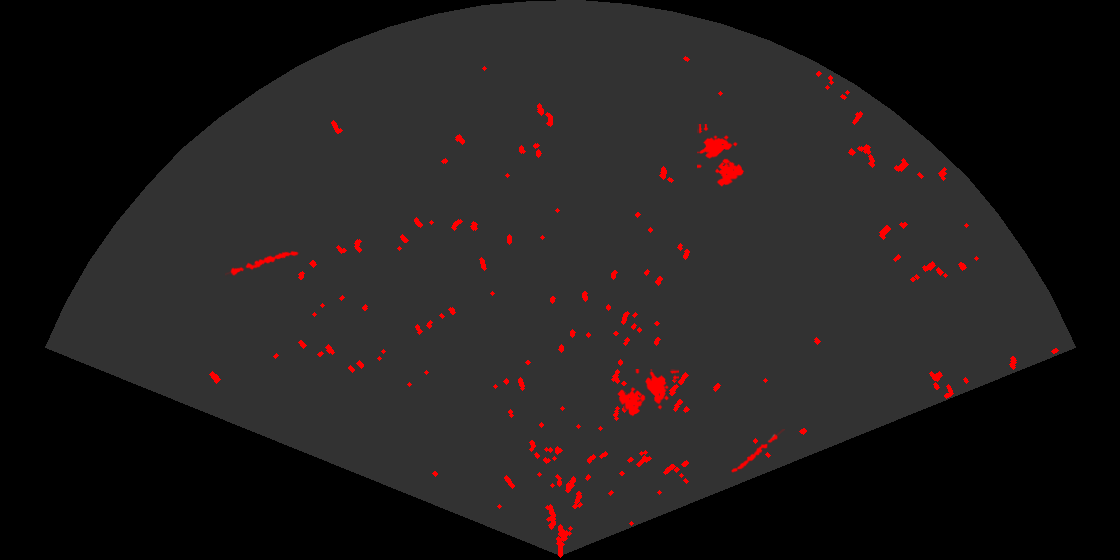cage: (697, 124, 746, 188), (616, 369, 679, 418)
chain: (730, 429, 785, 474), (225, 249, 301, 277)
